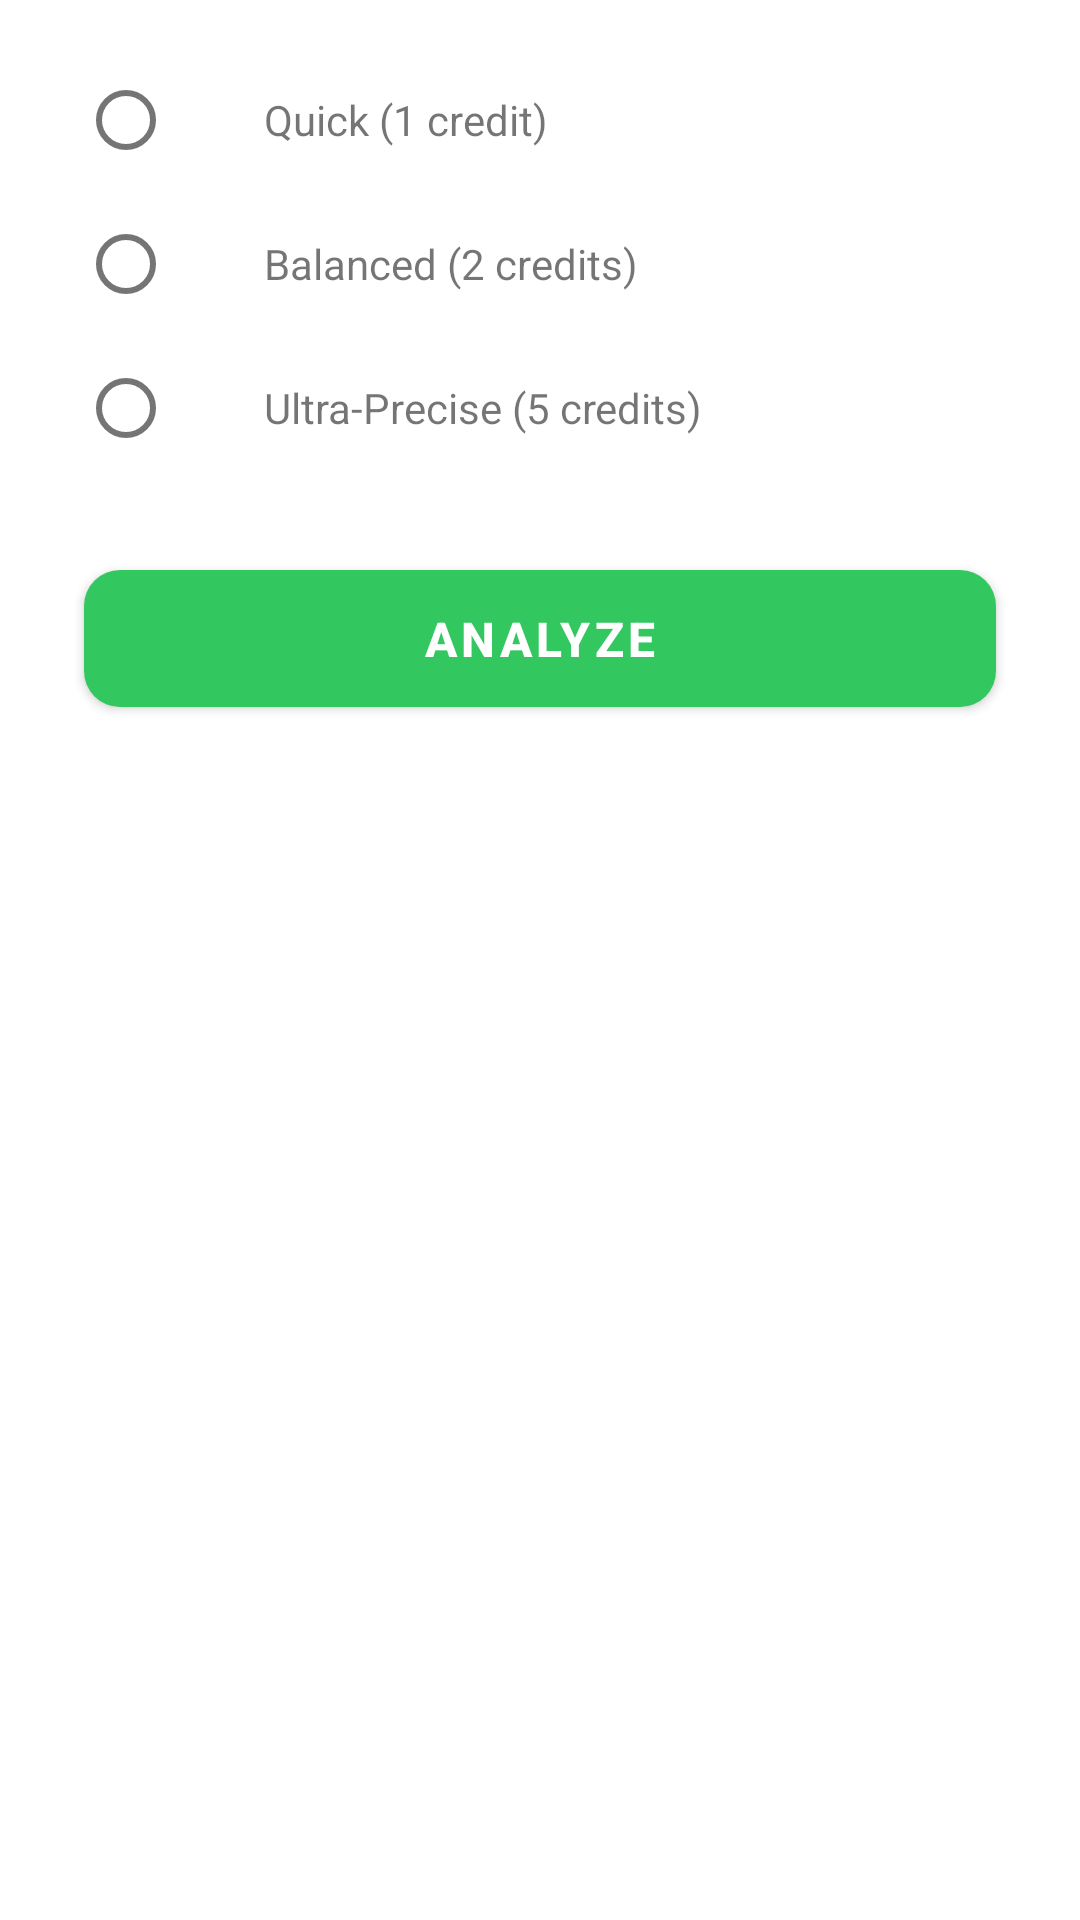

Icons on this 1080px×1920px Android screen, each with the point to tap as (x=x, y=y):
custom radio: (x=126, y=120), (x=126, y=264), (x=126, y=408)
